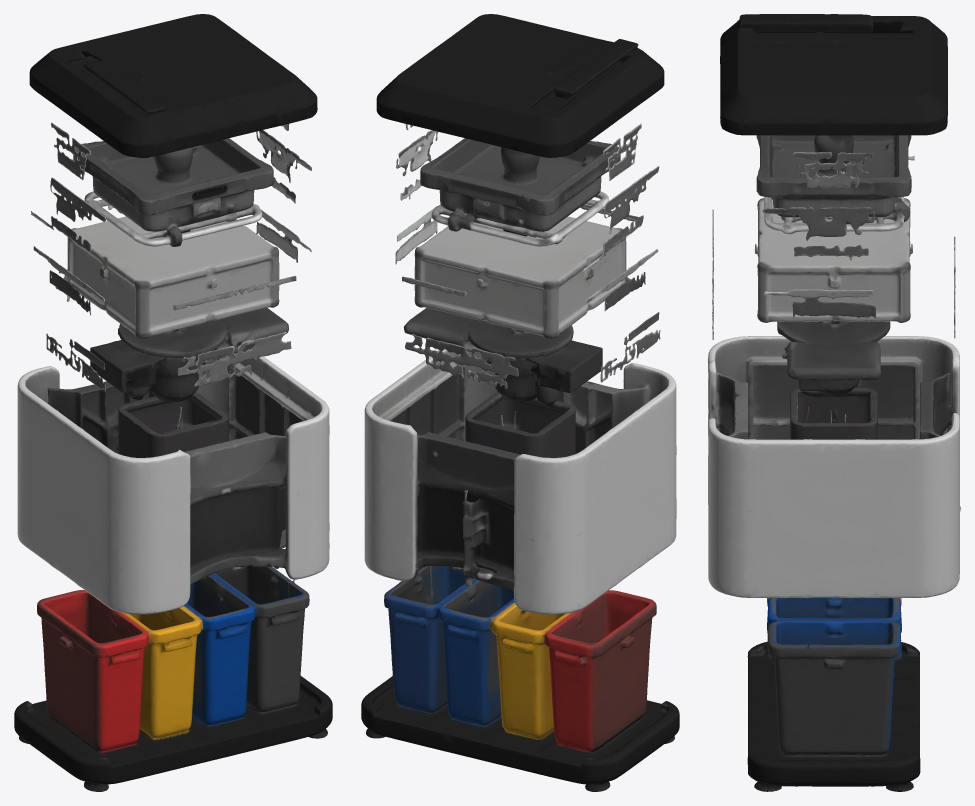
File: SectionView.glb
3 views of the same model, side by side, from view 1: azimuth 30°, elevation 25°; view 2: azimuth 150°, elevation 25°; view 3: azimuth 270°, elevation 25° (orthographic).
Visible parts, largest first — view 1: mesh_node; view 2: mesh_node; view 3: mesh_node.
Boxes of the visible parts, left/top/right/bottom form: mesh_node: left=14, top=14, right=332, bottom=791; mesh_node: left=361, top=14, right=679, bottom=791; mesh_node: left=708, top=14, right=960, bottom=791.
Size of the model in its own units: 0.7548 by 1.9 by 0.6367.
Materials: 1 (1 with a texture image).
